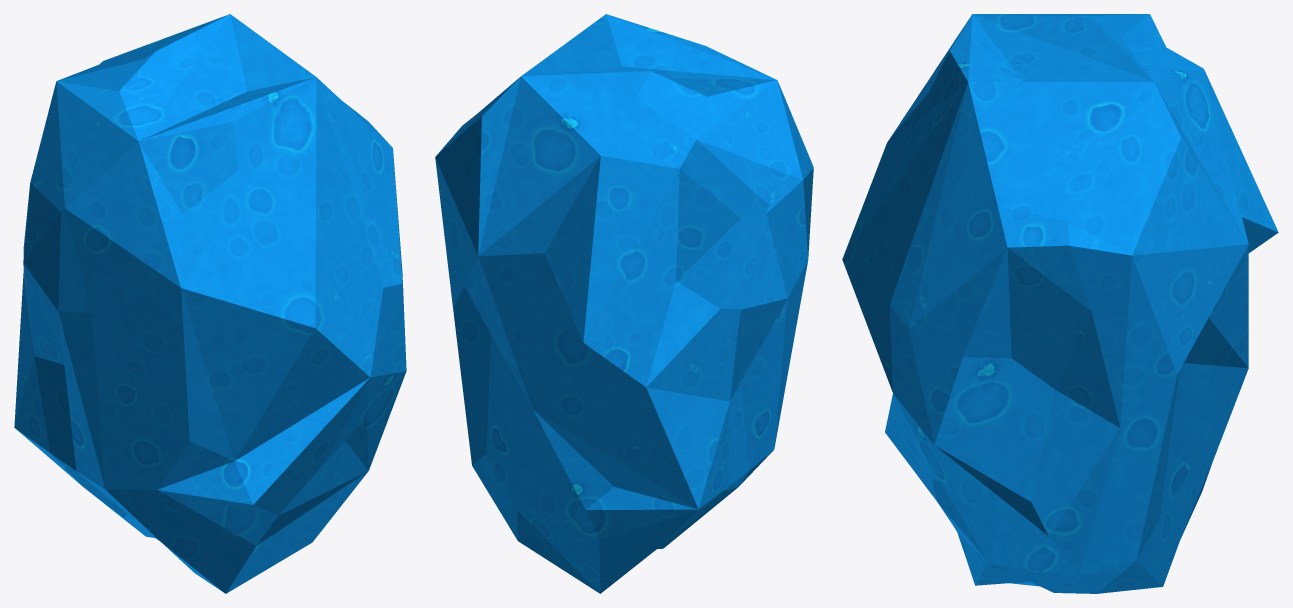
File: Stone1.glb
The picture shows the model from 3 angles, left to right: view 1: azimuth 30°, elevation 25°; view 2: azimuth 150°, elevation 25°; view 3: azimuth 270°, elevation 25°; orthographic projection. The views are drawn at different scales.
Parts seen in each view (by area): view 1: Gem_Part2.001, Gem_Part4.001, Gem_part1.001, Gem_Part3.001; view 2: Gem_part1.001, Gem_Part3.001, Gem_Part4.001, Gem_Part2.001; view 3: Gem_Part3.001, Gem_part1.001, Gem_Part2.001, Gem_Part4.001.
Part boxes in pixels (x1=…): Gem_Part2.001: x1=65, y1=77, x2=406, y2=504; Gem_Part4.001: x1=14, y1=311, x2=406, y2=593; Gem_part1.001: x1=23, y1=14, x2=392, y2=312; Gem_Part3.001: x1=14, y1=263, x2=64, y2=426; Gem_part1.001: x1=435, y1=14, x2=808, y2=387; Gem_Part3.001: x1=453, y1=253, x2=787, y2=593; Gem_Part4.001: x1=599, y1=261, x2=807, y2=593; Gem_Part2.001: x1=609, y1=15, x2=813, y2=258; Gem_Part3.001: x1=934, y1=217, x2=1278, y2=586; Gem_part1.001: x1=968, y1=14, x2=1278, y2=374; Gem_Part2.001: x1=842, y1=14, x2=1007, y2=444; Gem_Part4.001: x1=885, y1=393, x2=1162, y2=593.
Bounding box in the file's own units: 1.4 × 2.11 × 1.51.
Materials: 2 (2 with a texture image).
